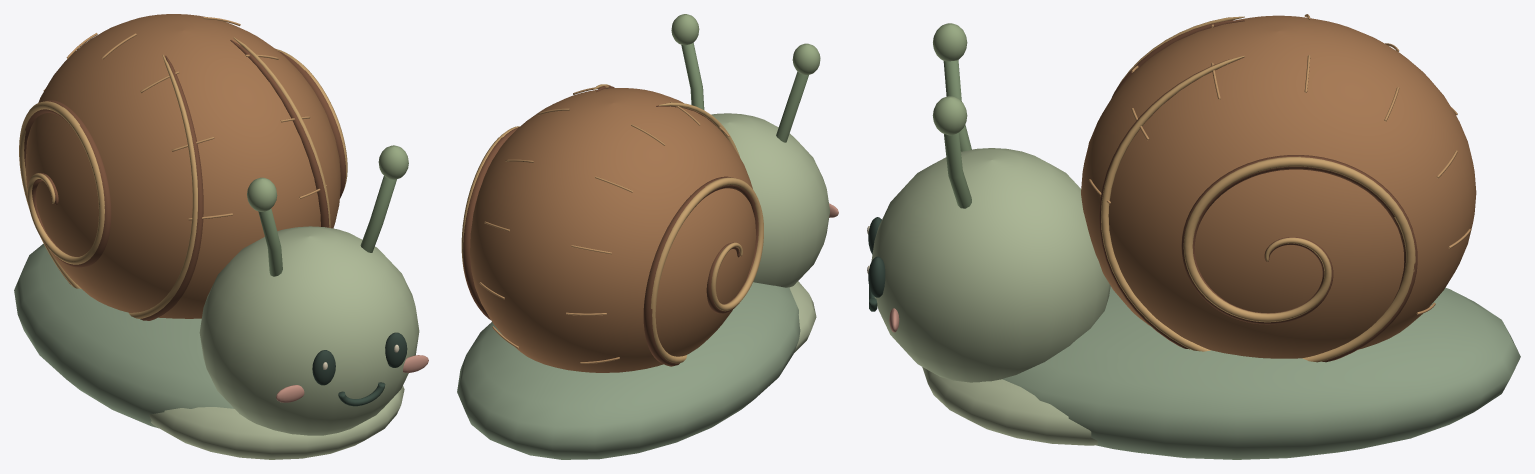
Rendered from woodland-snail.glb.
The picture shows the model from 3 angles, left to right: view 1: azimuth 30°, elevation 25°; view 2: azimuth 150°, elevation 25°; view 3: azimuth 270°, elevation 25°; orthographic projection. The views are drawn at different scales.
Parts seen in each view (by area): view 1: Spiral shell_Mesh, discovery_Head.006_Mesh, discovery_Motion.006_Mesh, discovery_Eyes.006_Mesh; view 2: Spiral shell_Mesh, discovery_Motion.006_Mesh, discovery_Head.006_Mesh; view 3: Spiral shell_Mesh, discovery_Motion.006_Mesh, discovery_Head.006_Mesh, discovery_Eyes.006_Mesh.
Part boxes in pixels (bbox=[...]): Spiral shell_Mesh: bbox=[19, 14, 347, 320]; discovery_Head.006_Mesh: bbox=[199, 145, 428, 435]; discovery_Motion.006_Mesh: bbox=[14, 244, 404, 459]; discovery_Eyes.006_Mesh: bbox=[312, 332, 407, 385]; Spiral shell_Mesh: bbox=[461, 84, 763, 372]; discovery_Motion.006_Mesh: bbox=[457, 281, 816, 459]; discovery_Head.006_Mesh: bbox=[671, 14, 838, 287]; Spiral shell_Mesh: bbox=[1081, 14, 1476, 362]; discovery_Motion.006_Mesh: bbox=[922, 286, 1520, 459]; discovery_Head.006_Mesh: bbox=[869, 23, 1110, 382]; discovery_Eyes.006_Mesh: bbox=[867, 217, 885, 297].
Size of the model in its own units: 0.66 by 0.78 by 1.17.
